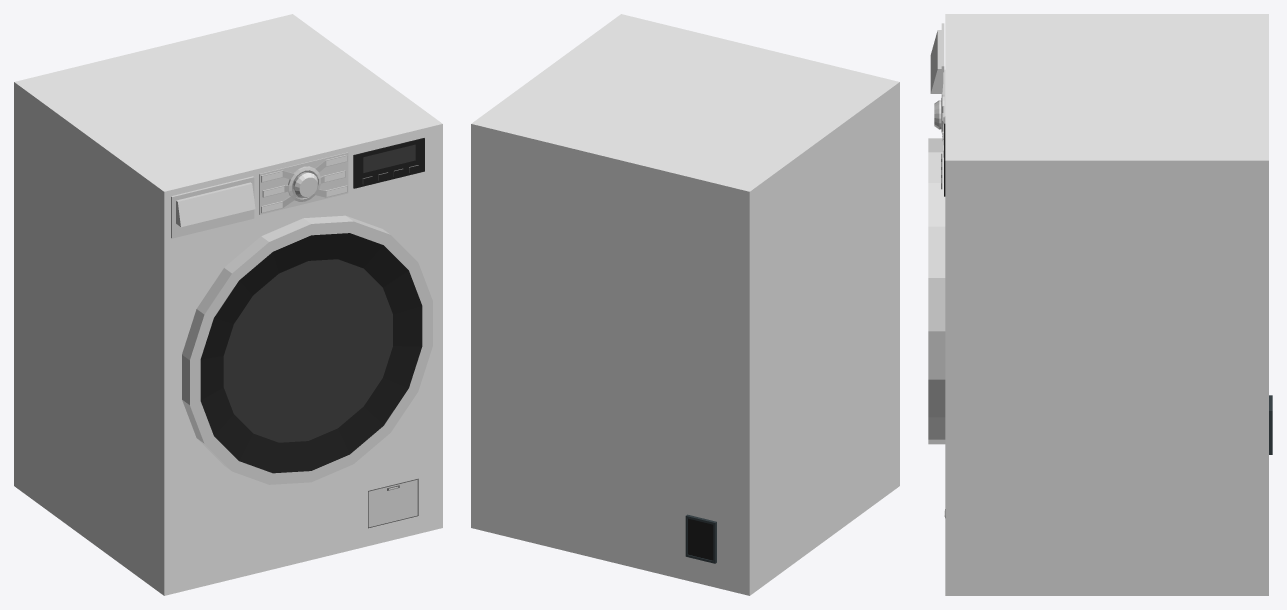
The model's file is Dryer.glb.
3 views of the same model, side by side, from view 1: azimuth 30°, elevation 25°; view 2: azimuth 150°, elevation 25°; view 3: azimuth 270°, elevation 25° (orthographic). The views are drawn at different scales.
Parts seen in each view (by area): view 1: Dryer, Dryer-Door; view 2: Dryer; view 3: Dryer, Dryer-Door.
Part boxes in pixels (<box>): Dryer: <box>14,14,442,595</box>; Dryer-Door: <box>182,215,432,484</box>; Dryer: <box>471,14,899,595</box>; Dryer: <box>930,14,1272,595</box>; Dryer-Door: <box>928,138,945,444</box>.
Size of the model in its own units: 0.7291 by 1.01 by 0.724.
Materials: 1 (1 with a texture image).
